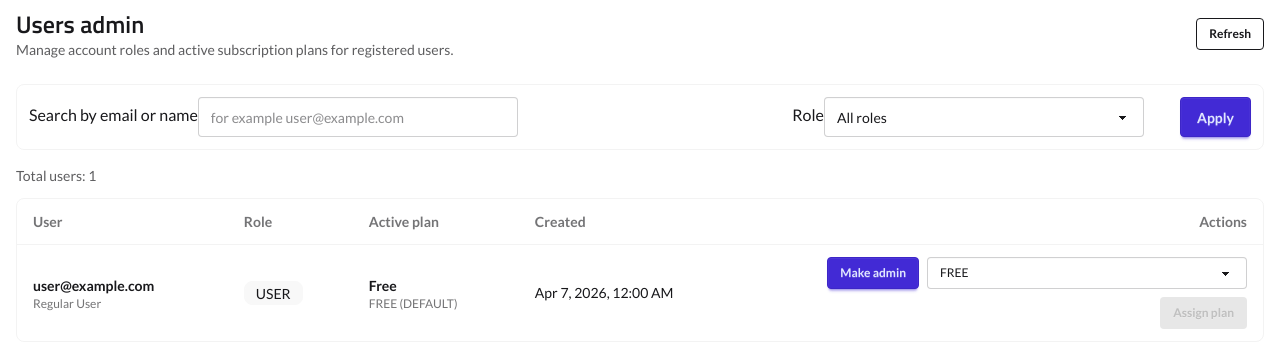
Scenario: AdminUsersPage › assigns selected plan for user
Check: the text "user@example.com" is shown, box [33,276,154,294]
Select "ADVANCED" in the dropdown named "Plan select for user@example.com" at (1087,273), box [927,257,1247,289]
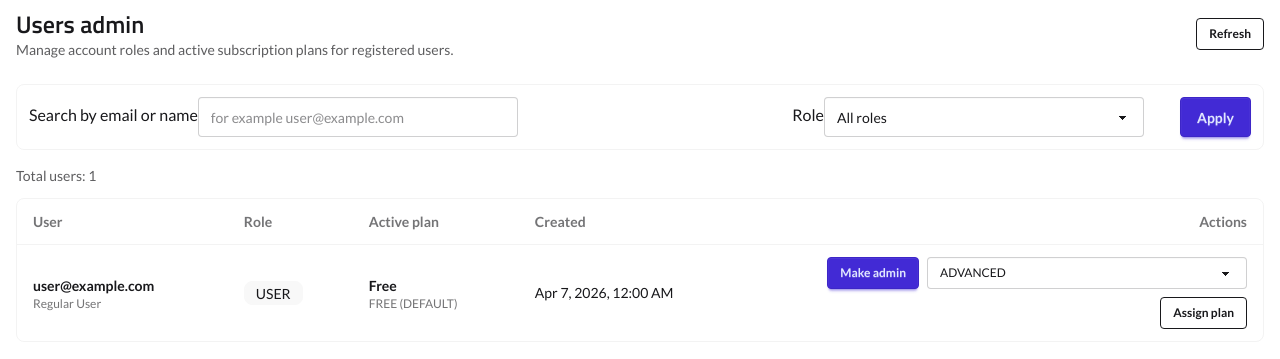
Click the button with aria-label "Assign plan for user@example.com" at (1204,313), box [1160,297,1247,329]
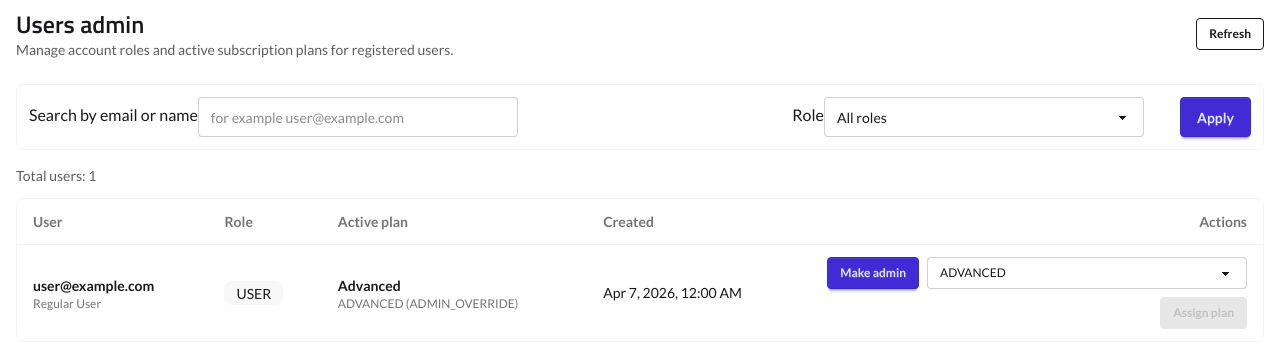
Check: the text "Advanced" is shown, box [338,276,401,294]
